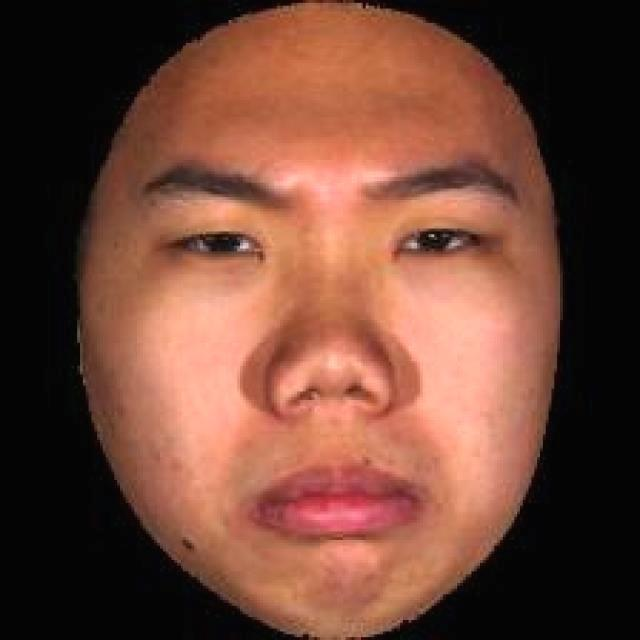sad: (30, 4, 614, 640)
